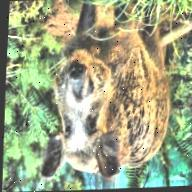boar: (35, 0, 177, 184)
